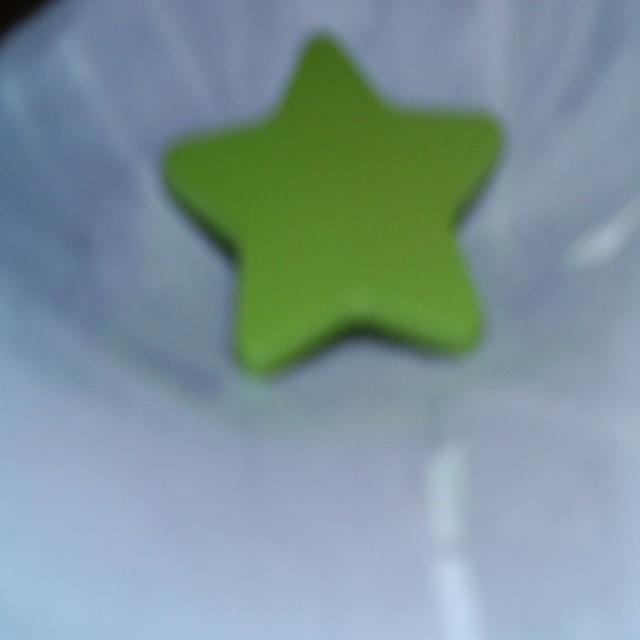star: (166, 36, 501, 369)
